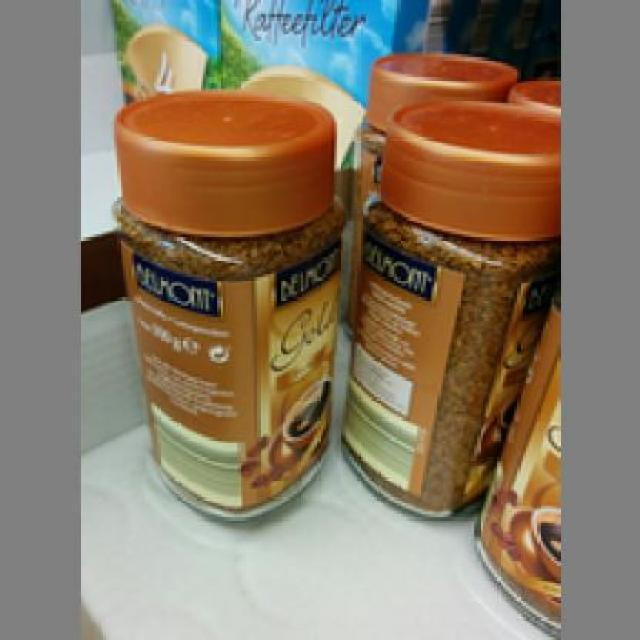Coffee: (106, 86, 343, 523), (328, 94, 554, 517)
